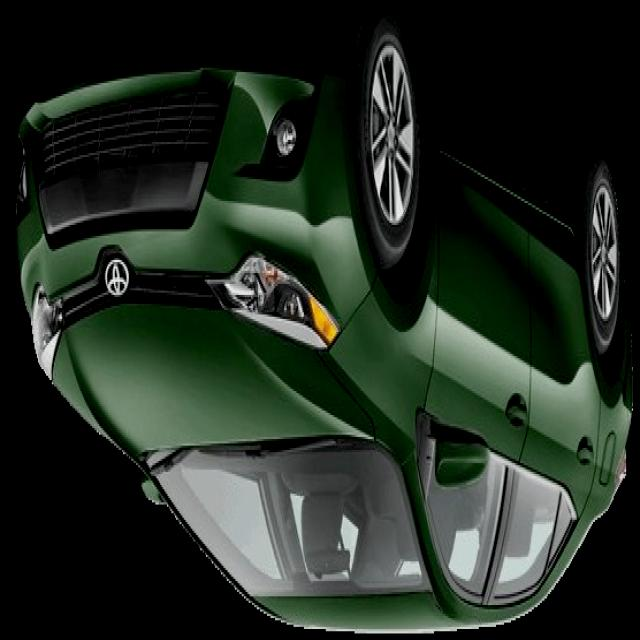green: (19, 6, 634, 633)
